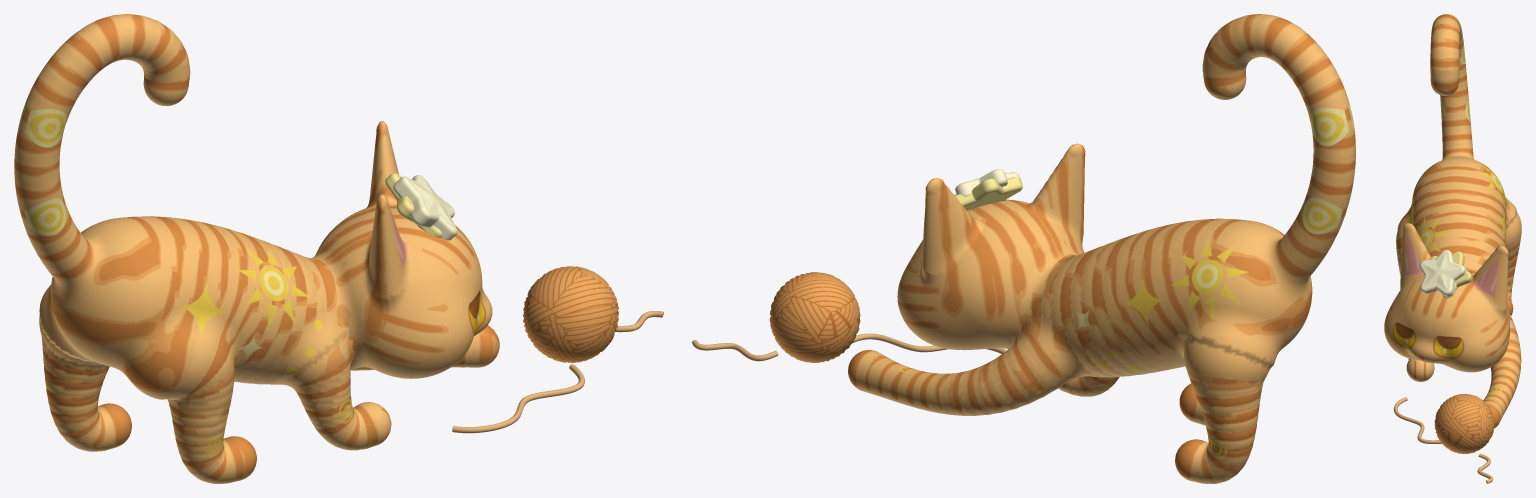
Rendered from cat.glb.
The picture shows the model from 3 angles, left to right: view 1: azimuth 30°, elevation 25°; view 2: azimuth 150°, elevation 25°; view 3: azimuth 270°, elevation 25°; orthographic projection. The views are drawn at different scales.
Parts seen in each view (by area): view 1: Cat, YarnBall, Star, YarnThread, StarShadow; view 2: Cat, YarnBall, YarnThread, StarShadow; view 3: Cat, YarnBall, Star, YarnThread, StarShadow.
Boxes of the visible parts, bbox=[...] form: Cat: bbox=[14, 14, 499, 483]; YarnBall: bbox=[523, 266, 618, 362]; Star: bbox=[393, 175, 457, 240]; YarnThread: bbox=[452, 311, 663, 433]; StarShadow: bbox=[385, 173, 442, 237]; Cat: bbox=[848, 14, 1355, 483]; YarnBall: bbox=[769, 272, 860, 362]; YarnThread: bbox=[692, 333, 1006, 361]; StarShadow: bbox=[954, 177, 1022, 210]; Cat: bbox=[1384, 14, 1521, 428]; YarnBall: bbox=[1434, 394, 1494, 453]; Star: bbox=[1420, 250, 1466, 296]; YarnThread: bbox=[1393, 397, 1493, 483]; StarShadow: bbox=[1429, 251, 1472, 297].
Size of the model in its own units: 5.17 by 3.44 by 1.47.
Materials: 5 (2 with a texture image).
